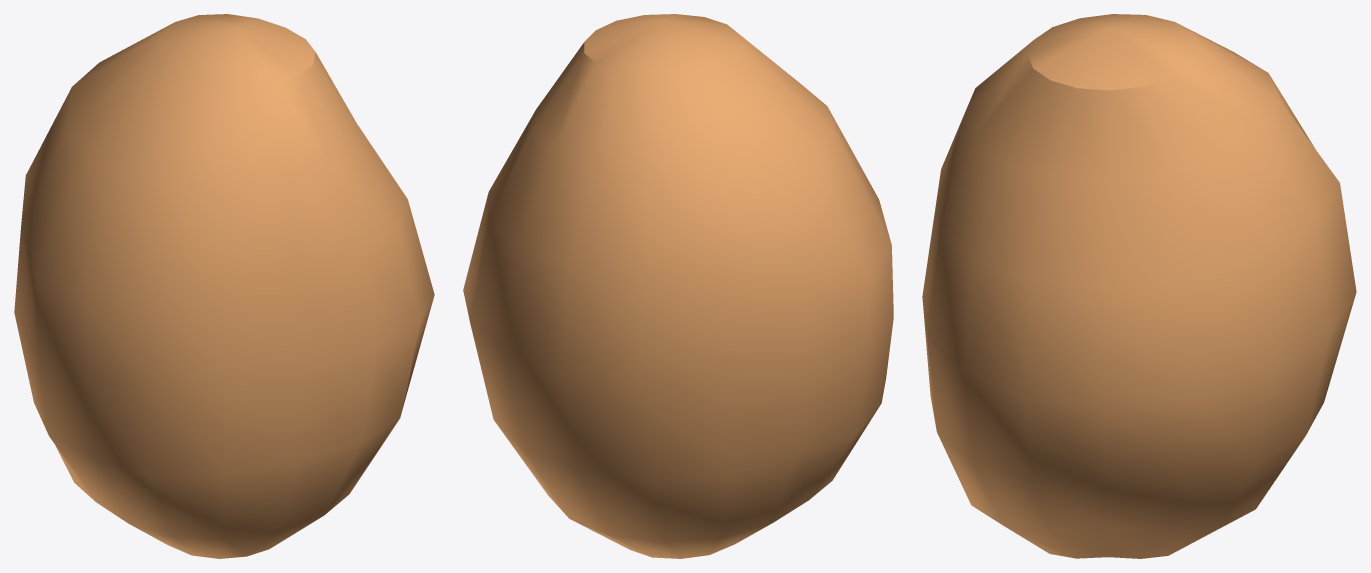
The model's file is Potato_1.fbx.
The picture shows the model from 3 angles, left to right: view 1: azimuth 30°, elevation 25°; view 2: azimuth 150°, elevation 25°; view 3: azimuth 270°, elevation 25°; orthographic projection. The views are drawn at different scales.
Parts seen in each view (by area): view 1: Potato_1; view 2: Potato_1; view 3: Potato_1.
Boxes of the visible parts, x1,y1,x2,y2 form: Potato_1: [14, 14, 434, 558]; Potato_1: [463, 14, 893, 558]; Potato_1: [922, 14, 1356, 558].
Size of the model in its own units: 5.19 by 6.66 by 4.98.
